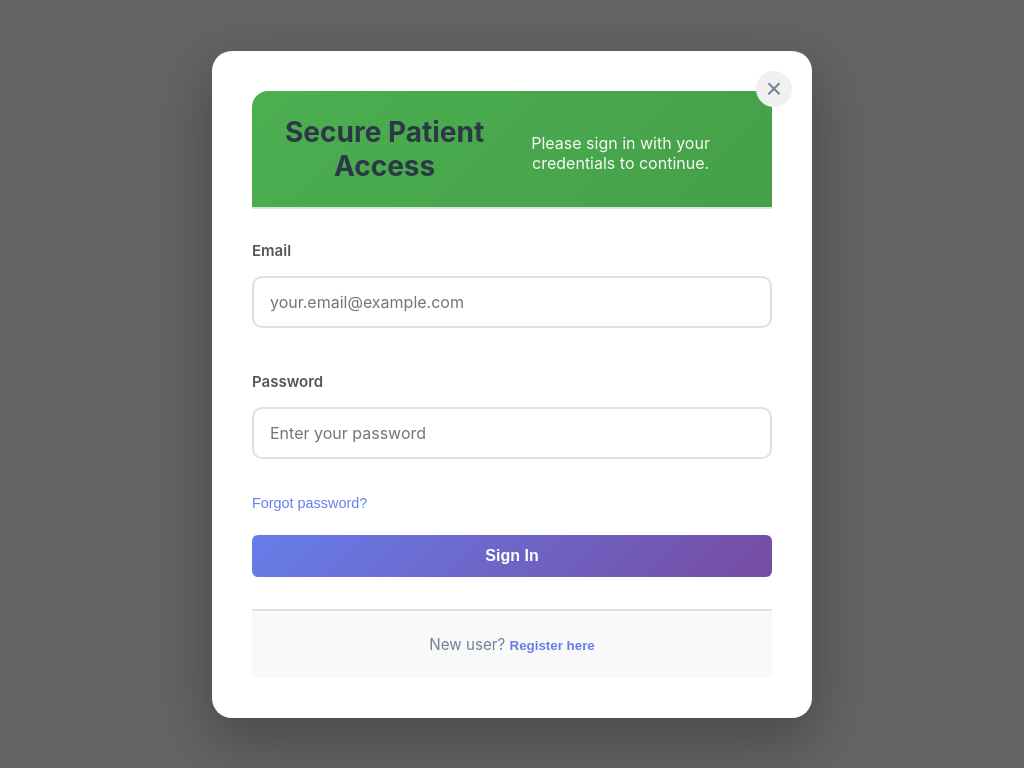
Test: LoginModal › should display error message on login failure
The image size is (1024, 768).
Step 1. Type "test@example.com" into the field labelled "Email" → (512, 302), box 252,276 -> 772,328
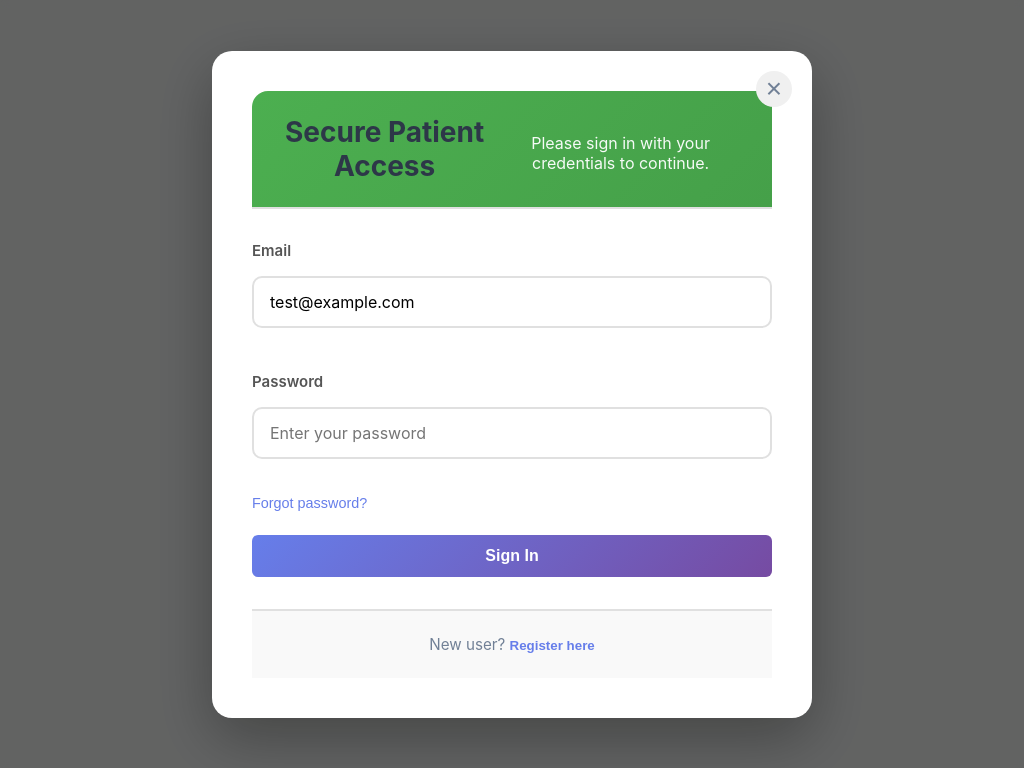
Step 2. Type "wrongpassword" into the password field labelled "Password" → (512, 432), box 252,406 -> 772,458
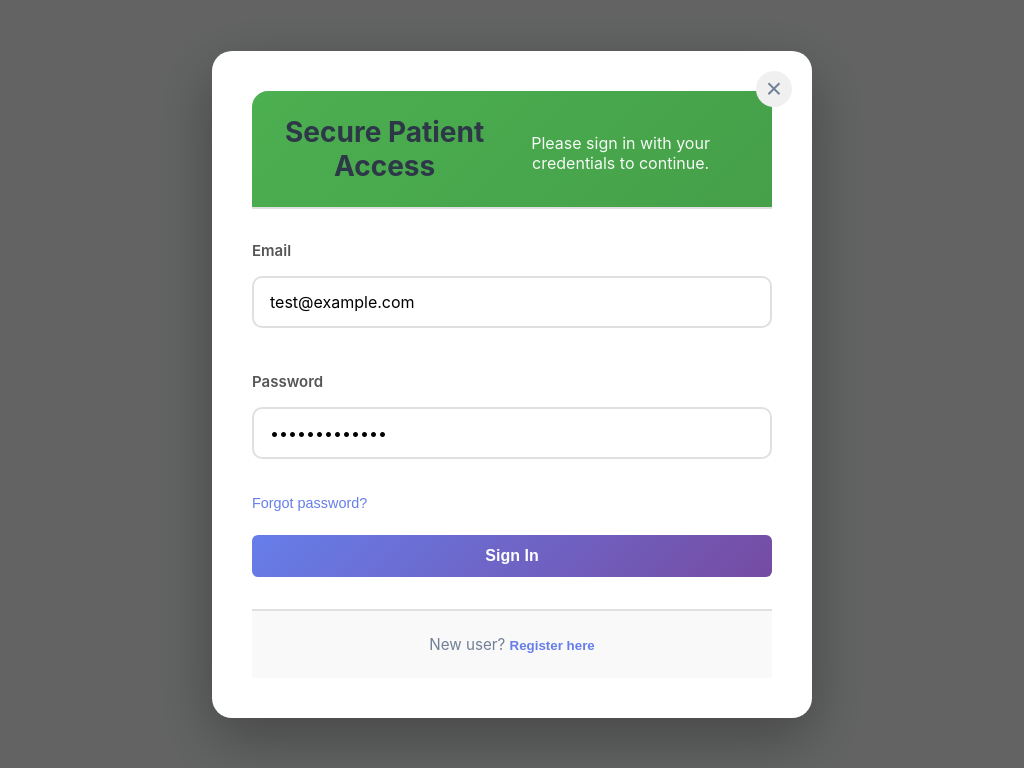
Step 3. Click the button "Sign In" → (512, 556), box 252,534 -> 772,576
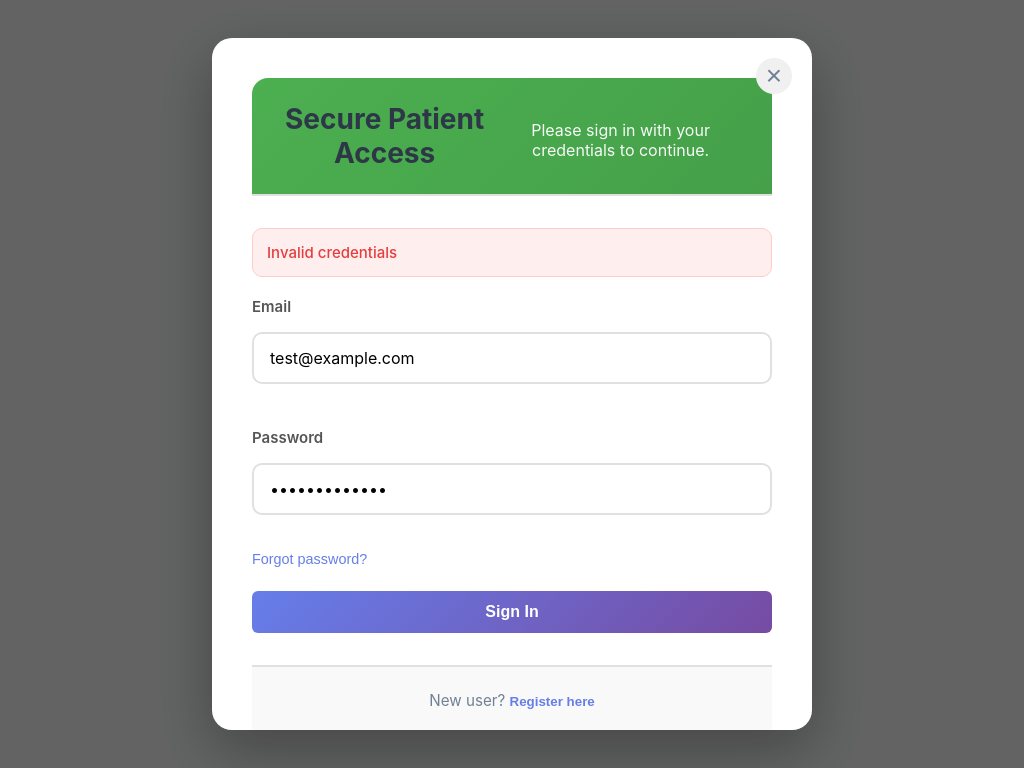
Result: the text "Invalid credentials" is shown at 252,228 -> 772,277
